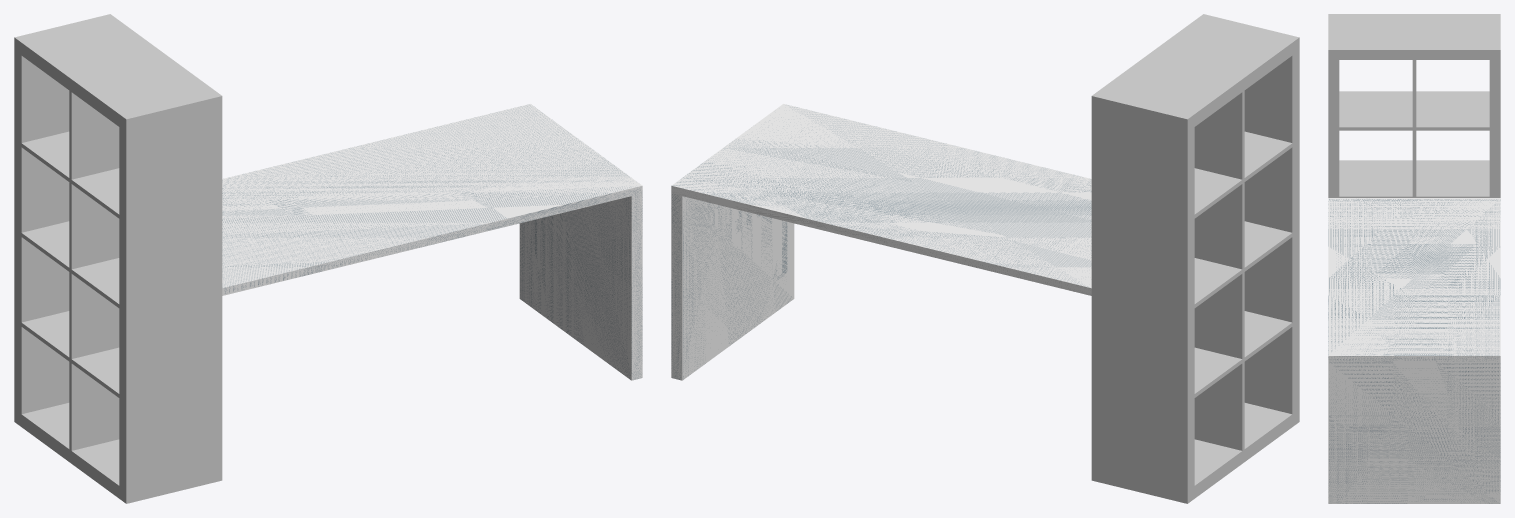
The model's file is BookshelfDeskTest.fbx.
The picture shows the model from 3 angles, left to right: view 1: azimuth 30°, elevation 25°; view 2: azimuth 150°, elevation 25°; view 3: azimuth 270°, elevation 25°; orthographic projection. The views are drawn at different scales.
Parts seen in each view (by area): view 1: Expedit_Shelf_Tall1977_09_23_22_41_38__0200_1, Component_84_1; view 2: Expedit_Shelf_Tall1977_09_23_22_41_38__0200_1, Component_84_1; view 3: Component_84_1, Expedit_Shelf_Tall1977_09_23_22_41_38__0200_1.
Boxes of the visible parts, x1,y1,x2,y2 form: Expedit_Shelf_Tall1977_09_23_22_41_38__0200_1: [14, 14, 222, 503]; Component_84_1: [222, 104, 642, 380]; Expedit_Shelf_Tall1977_09_23_22_41_38__0200_1: [1091, 14, 1299, 503]; Component_84_1: [671, 104, 1091, 380]; Component_84_1: [1328, 198, 1500, 503]; Expedit_Shelf_Tall1977_09_23_22_41_38__0200_1: [1328, 14, 1500, 197].
Size of the model in its own units: 2097 by 1493 by 788.
